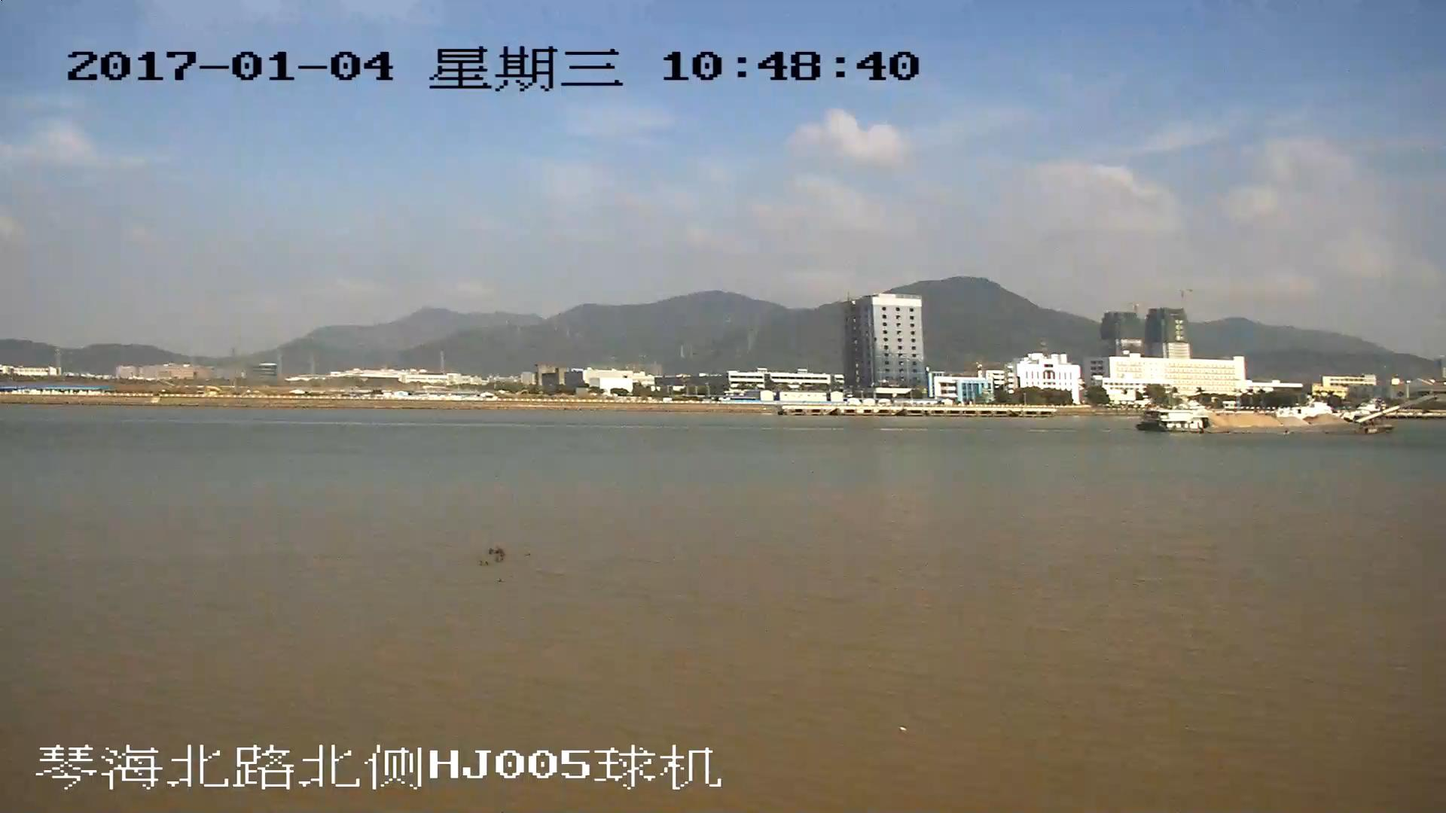ore carrier: (1138, 391, 1437, 432)
